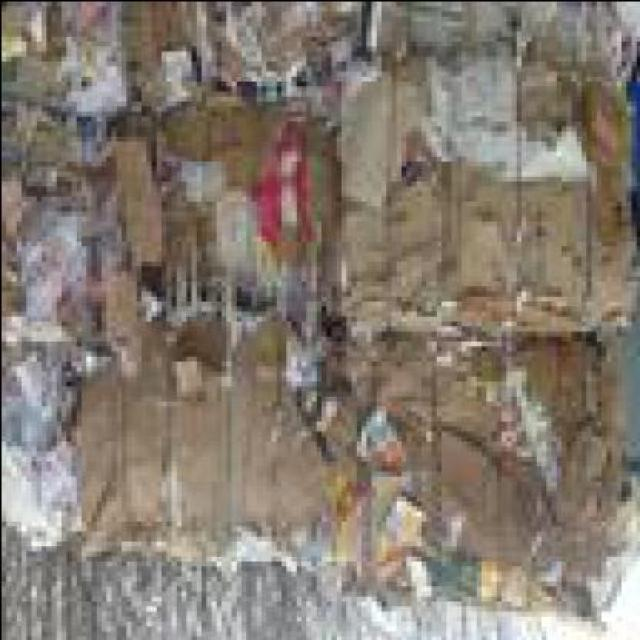cardboard: (340, 4, 638, 342), (331, 340, 631, 631), (76, 280, 336, 575), (116, 91, 347, 346), (5, 111, 140, 355), (131, 5, 371, 120), (6, 315, 91, 551), (6, 5, 131, 124)
